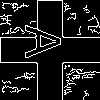A: (25, 25, 70, 59)
